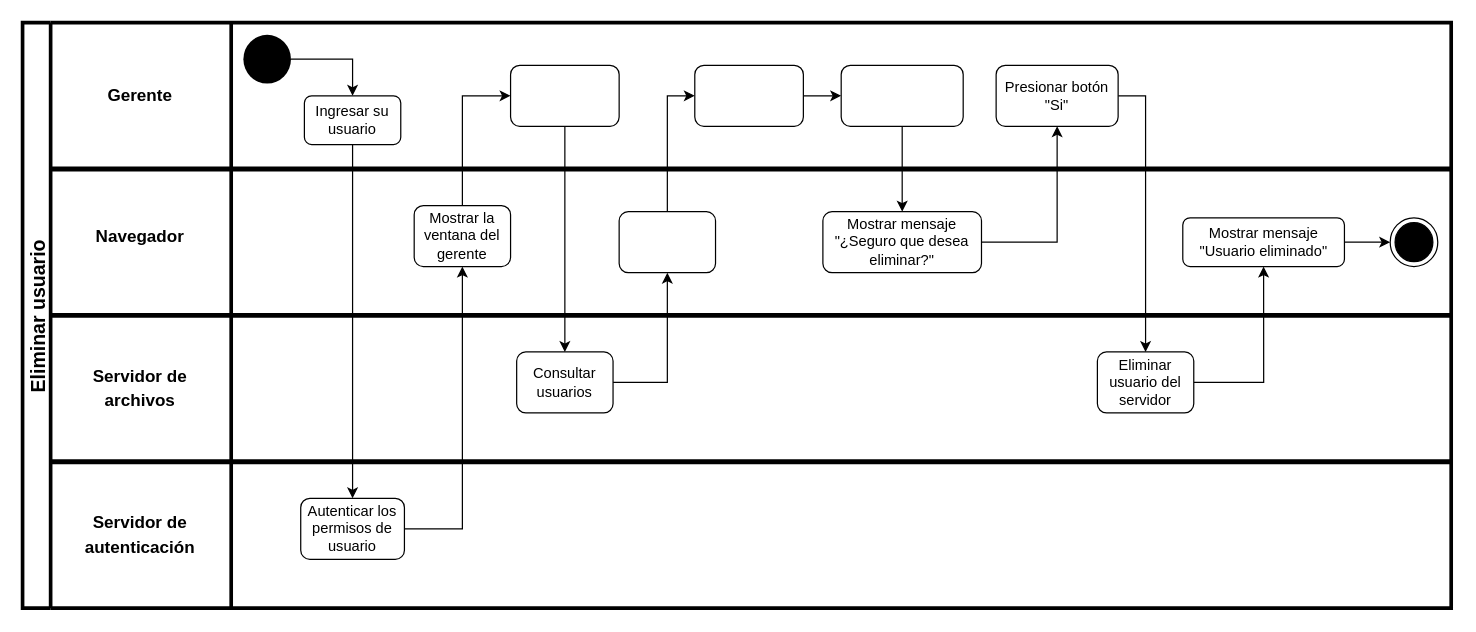
Image size: 1476x632. Some labels were removed from this diagram. The shapes that lost their labels are listed below. From the top down, each one's box as (x1, y1, x2, y2) in pixels, then its label:
(509, 64, 619, 126): Seleccionar la ventana de usuarios
(694, 64, 803, 126): Seleccionar un usuario
(840, 64, 963, 126): Presionar botón "Eliminar"
(618, 210, 716, 273): Mostrar lista de usuarios
